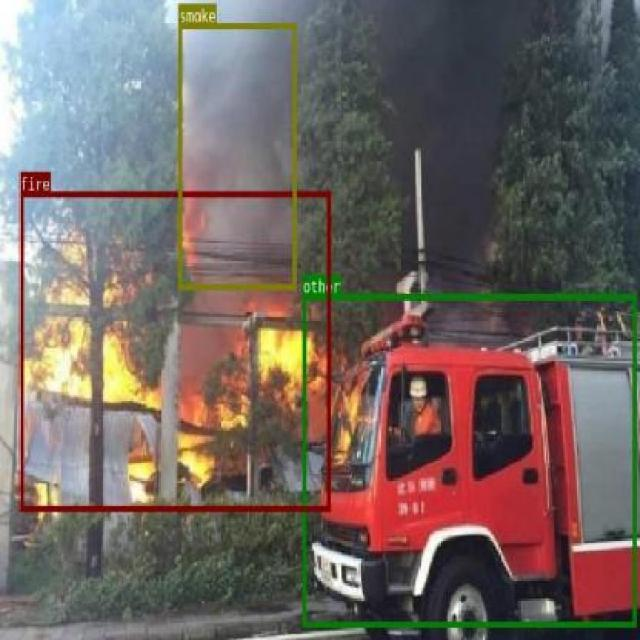Fire: (19, 190, 330, 510)
Smoke: (178, 22, 296, 288)
